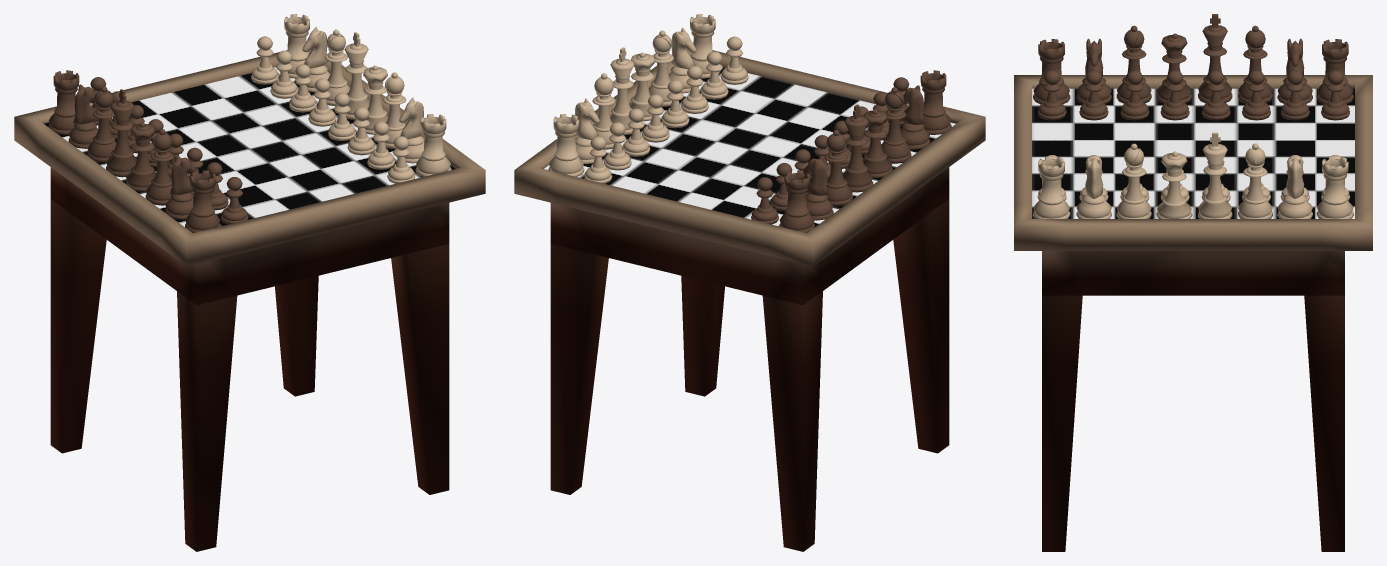
The model's file is Chess_Table.fbx.
3 renders of one model, left to right at view 1: azimuth 30°, elevation 25°; view 2: azimuth 150°, elevation 25°; view 3: azimuth 270°, elevation 25°, orthographic. The views are drawn at different scales.
Parts seen in each view (by area): view 1: Chess_Table; view 2: Chess_Table; view 3: Chess_Table.
Boxes of the visible parts, <box> form: Chess_Table: <box>14,14,485,551</box>; Chess_Table: <box>514,14,985,551</box>; Chess_Table: <box>1014,14,1372,551</box>.
Bounding box in the file's own units: 0.7599 × 0.9676 × 0.7599.
